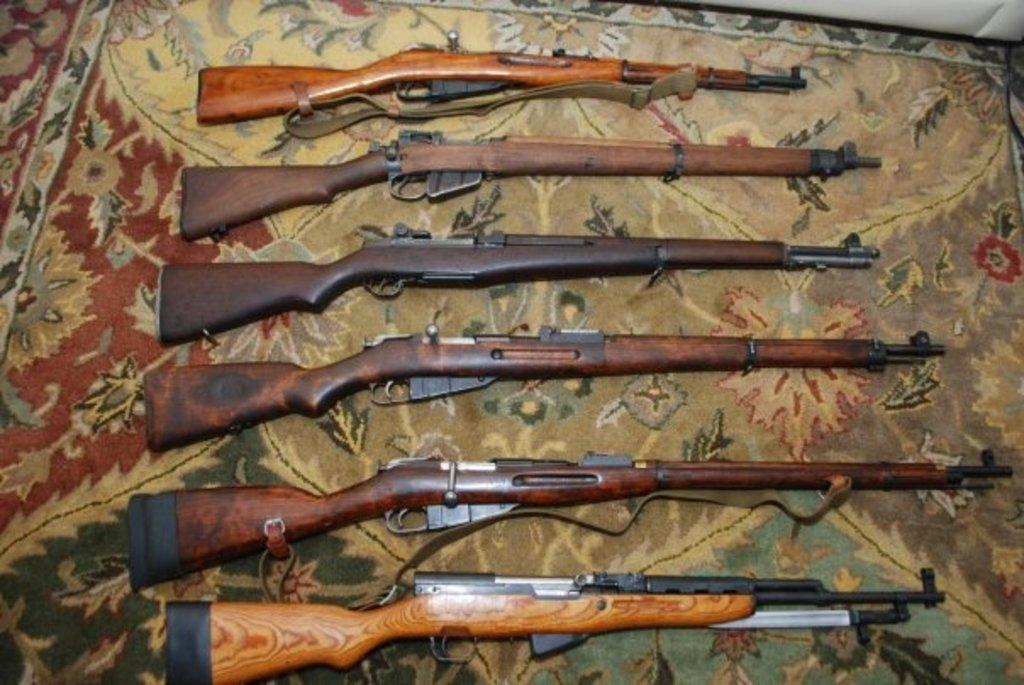Shotgun: (126, 31, 1016, 685)
